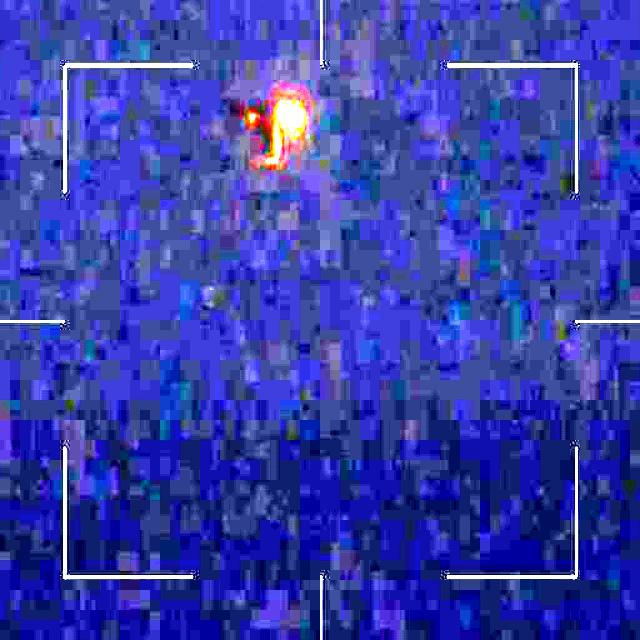bird: (234, 89, 305, 171)
